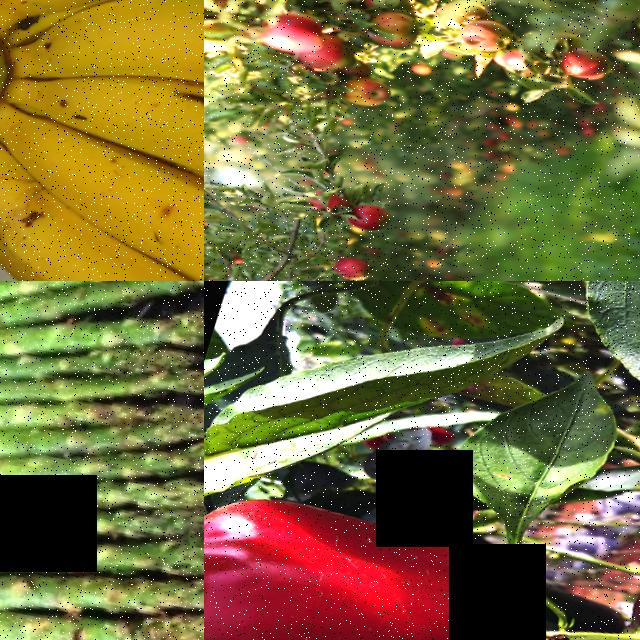apple: (251, 6, 338, 77), (540, 44, 624, 107), (446, 12, 521, 76), (338, 75, 403, 133), (358, 8, 419, 68), (342, 200, 399, 253), (292, 188, 346, 234), (486, 50, 537, 96), (329, 254, 385, 281), (329, 255, 381, 281), (275, 0, 337, 20), (224, 133, 252, 160)
asparagus: (0, 281, 204, 465), (0, 465, 204, 635), (0, 536, 204, 640), (0, 542, 204, 640), (134, 401, 204, 523)
banana: (0, 0, 204, 281)
bell pepper: (204, 449, 559, 640)
